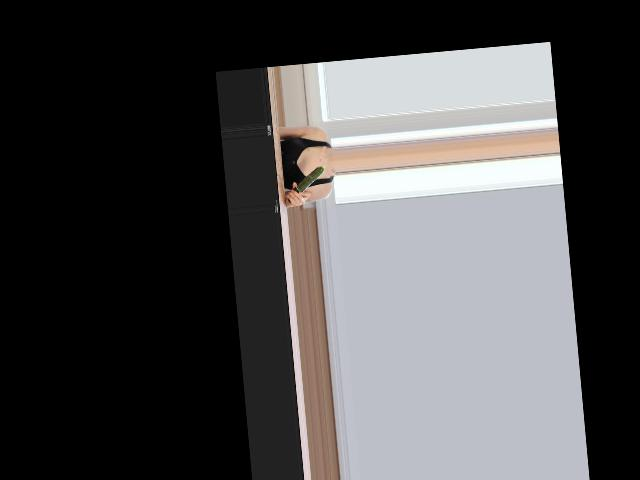cucumber: (284, 166, 327, 203)
